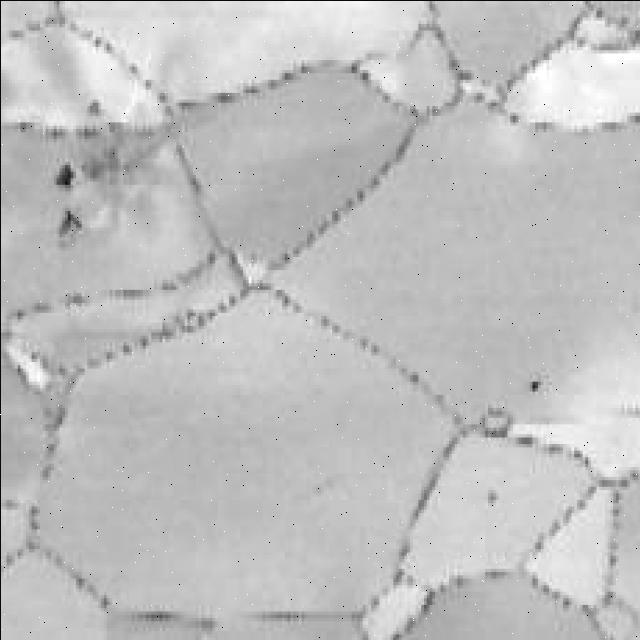good_void: (55, 206, 81, 239), (53, 159, 75, 187), (483, 482, 499, 510), (83, 96, 105, 115), (525, 375, 542, 396)
